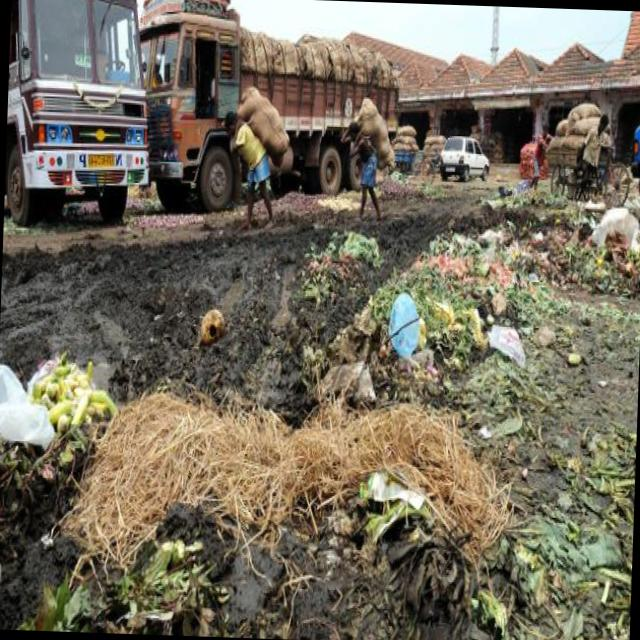garbage: (6, 173, 640, 640)
